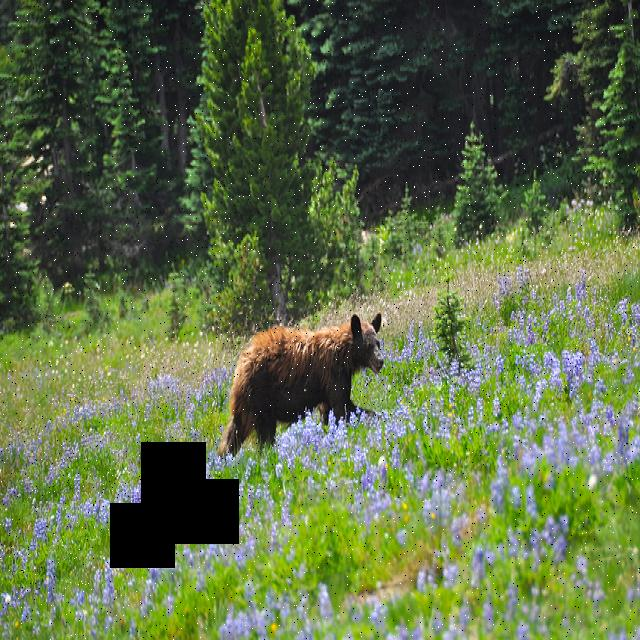Bear: (212, 301, 385, 452)
